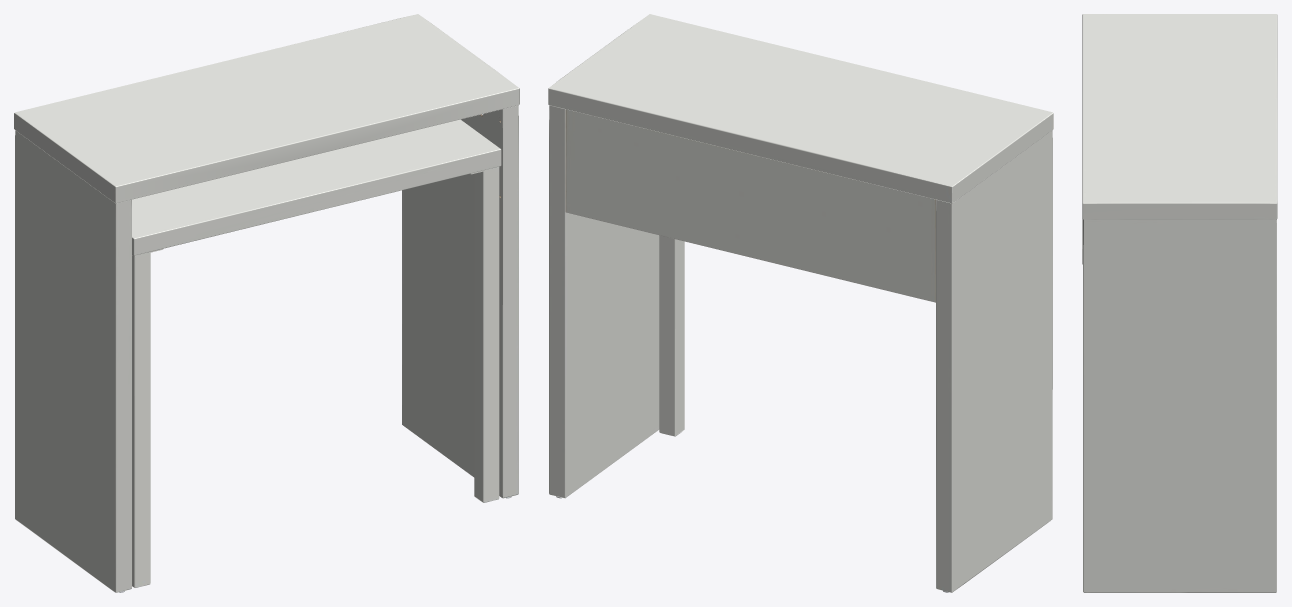
Rendered from langdhopp_biurko_wysuwane_30587080.glb.
3 renders of one model, left to right at view 1: azimuth 30°, elevation 25°; view 2: azimuth 150°, elevation 25°; view 3: azimuth 270°, elevation 25°, orthographic. The views are drawn at different scales.
Parts seen in each view (by area): view 1: langdhopp_biurko_wysuwane_30587080; view 2: langdhopp_biurko_wysuwane_30587080; view 3: langdhopp_biurko_wysuwane_30587080.
Part boxes in pixels (x1,y1,x2,y2): langdhopp_biurko_wysuwane_30587080: (14,14,519,592); langdhopp_biurko_wysuwane_30587080: (548,14,1053,592); langdhopp_biurko_wysuwane_30587080: (1082,14,1277,592).
Bounding box in the file's own units: 0.9001 × 0.87 × 0.3921.
1 material, 1 textured.
